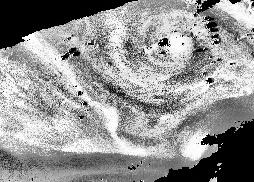CE: (99, 1, 228, 104)
